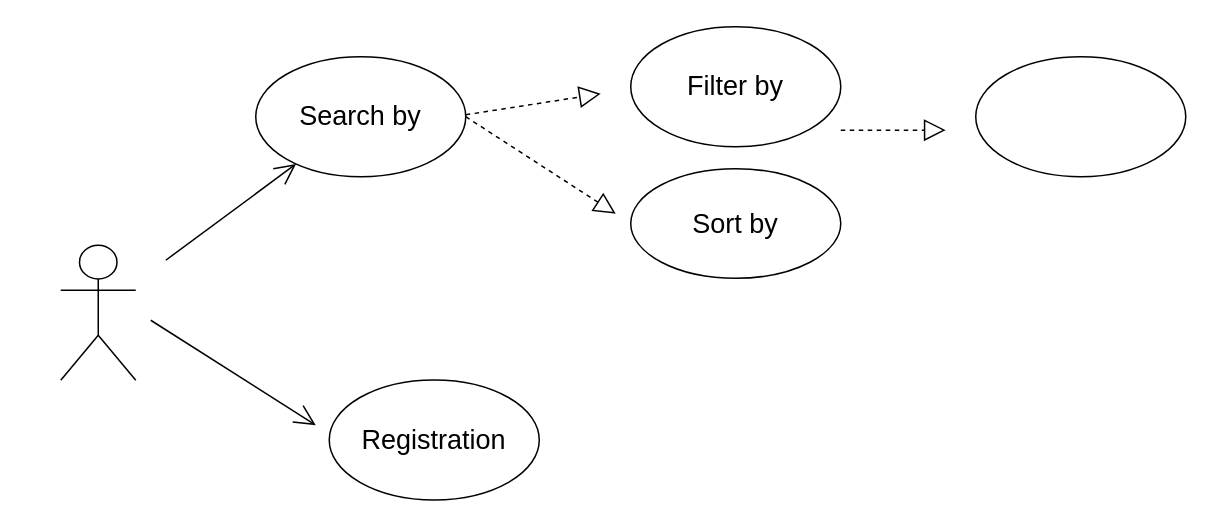
This 1212x527 diagram has some shape labels left out. The centre of each missing label's shape, as x and y in pixels:
Guest: the point at 97,312
View Car's details: the point at 1080,116
